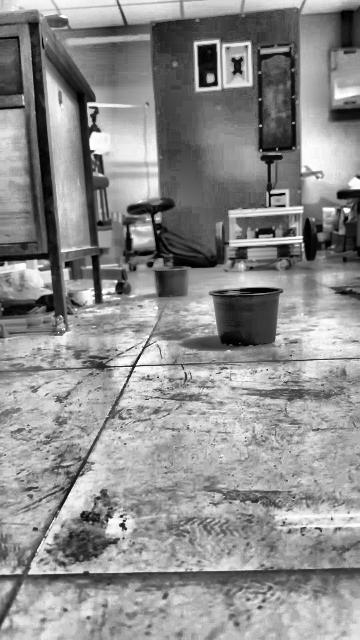pot: (209, 286, 283, 346), (153, 268, 187, 297)
